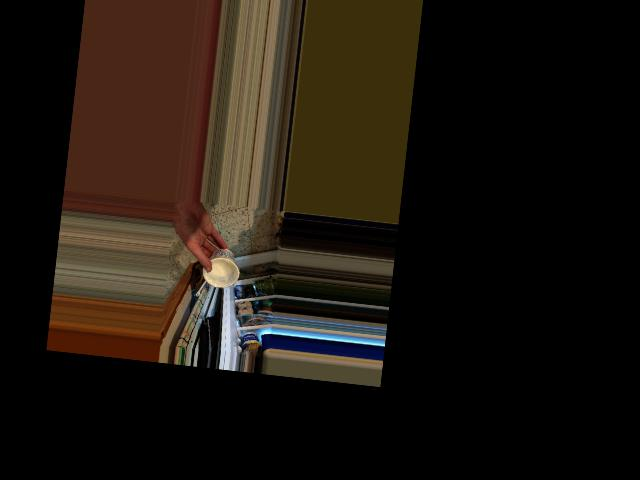cotage: (205, 245, 236, 293)
